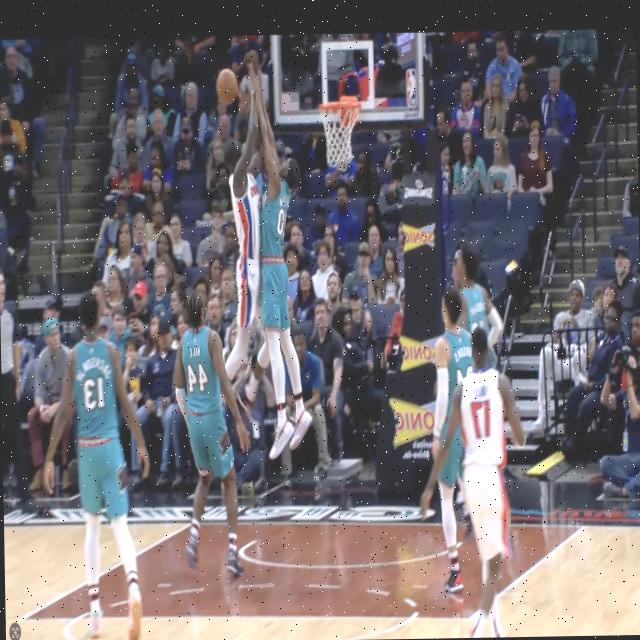foul: (218, 57, 298, 477)
no foul: (441, 282, 523, 634), (177, 298, 252, 593), (432, 284, 472, 595)
